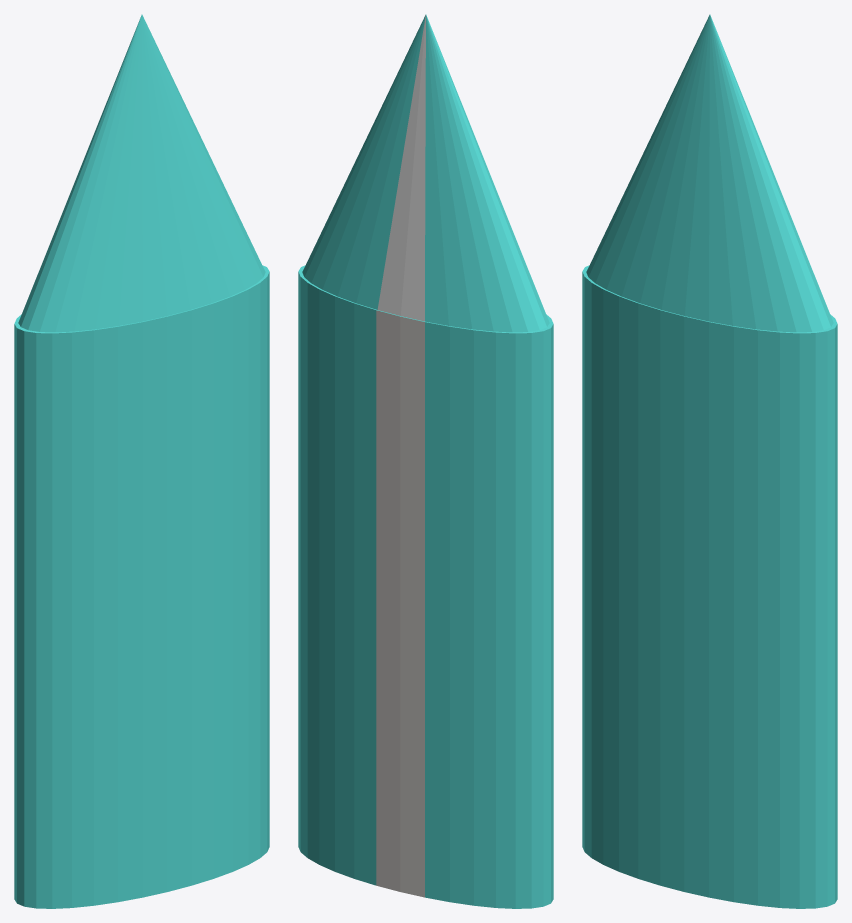
The model's file is arrow.gltf.
3 renders of one model, left to right at view 1: azimuth 30°, elevation 25°; view 2: azimuth 150°, elevation 25°; view 3: azimuth 330°, elevation 25°, orthographic.
Visible parts, largest first — view 1: Cylinder, Cone; view 2: Cylinder, Cone; view 3: Cylinder, Cone.
Part boxes in pixels (box(x1,y1,x2,y2)): Cylinder: box(14, 265, 269, 908); Cone: box(18, 14, 265, 332); Cylinder: box(298, 265, 553, 908); Cone: box(302, 14, 549, 332); Cylinder: box(582, 265, 837, 908); Cone: box(586, 14, 833, 332).
Size of the model in its own units: 0.6502 by 2.14 by 0.2327.
